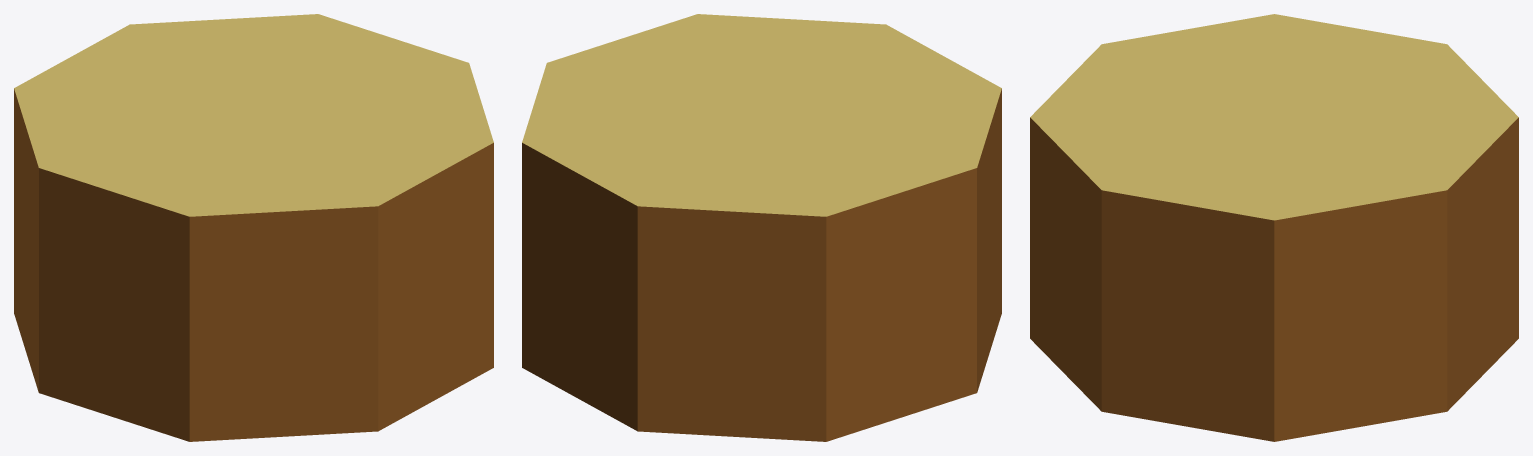
Rendered from wood.fbx.
The picture shows the model from 3 angles, left to right: view 1: azimuth 30°, elevation 25°; view 2: azimuth 150°, elevation 25°; view 3: azimuth 270°, elevation 25°; orthographic projection.
Parts seen in each view (by area): view 1: Cylinder; view 2: Cylinder; view 3: Cylinder.
Part boxes in pixels (x1,y1,x2,y2): Cylinder: (14,14,493,441); Cylinder: (522,14,1001,441); Cylinder: (1030,14,1518,441).
Bounding box in the file's own units: 200 × 100 × 200.
